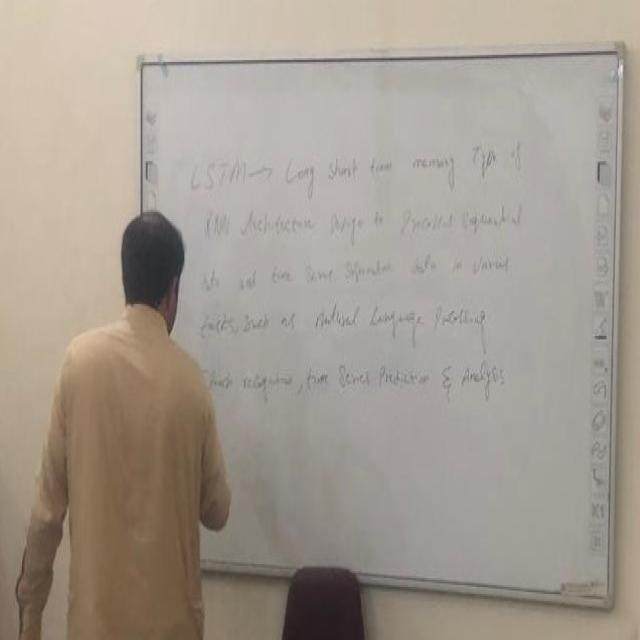Instructor: (82, 174, 224, 640)
White-board: (142, 52, 622, 598)
